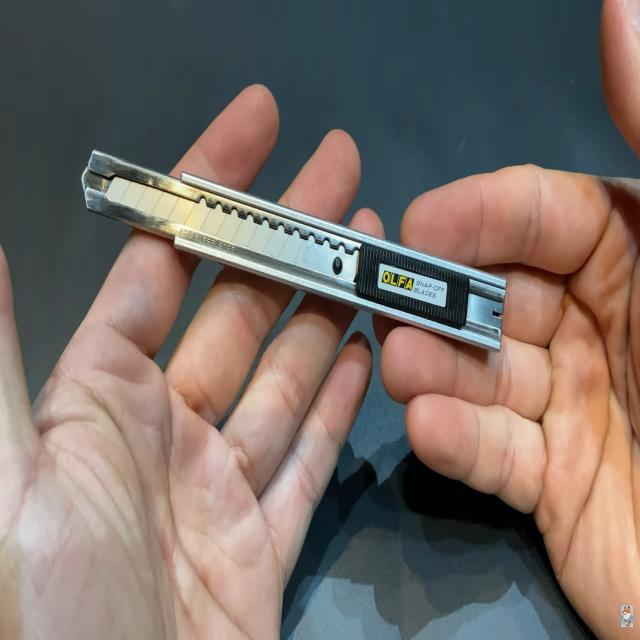cutter: (0, 74, 640, 554)
